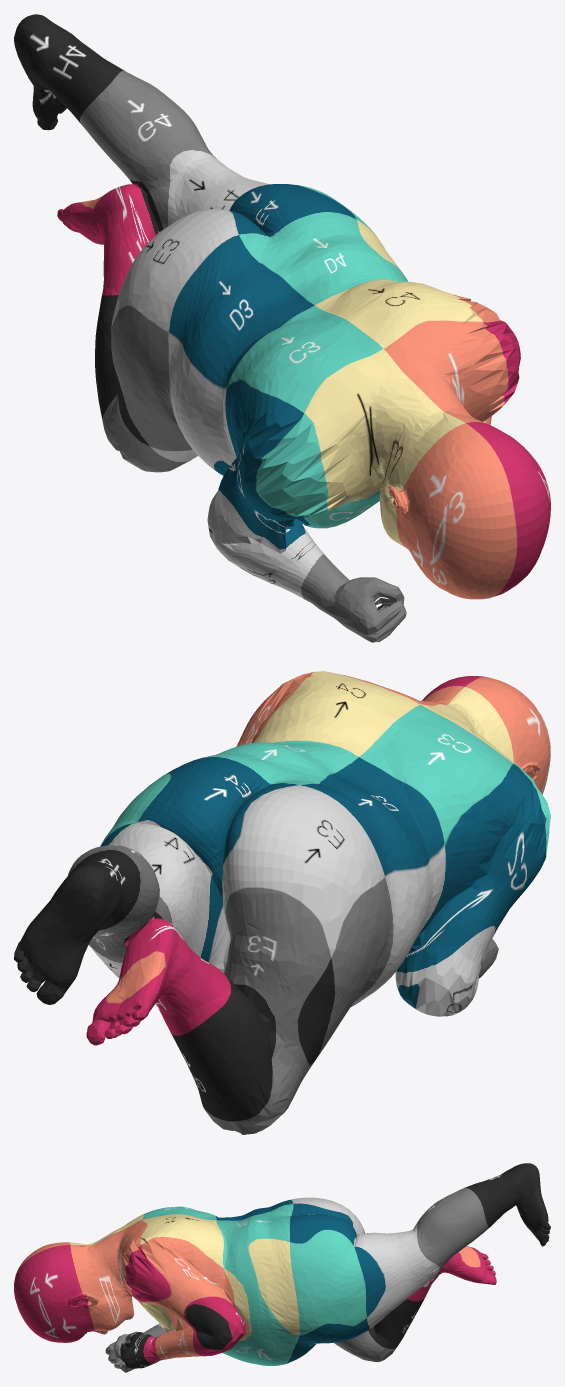
File: kid00-kid25.obj
3 renders of one model, top to bottom at view 1: azimuth 30°, elevation 25°; view 2: azimuth 150°, elevation 25°; view 3: azimuth 270°, elevation 25°, orthographic. The views are drawn at different scales.
Parts seen in each view (by area): view 1: kid00-kid25_export; view 2: kid00-kid25_export; view 3: kid00-kid25_export.
Boxes of the visible parts, bbox=[...] form: kid00-kid25_export: bbox=[14, 14, 550, 642]; kid00-kid25_export: bbox=[14, 671, 550, 1134]; kid00-kid25_export: bbox=[14, 1163, 550, 1372].
Bounding box in the file's own units: 0.3851 × 0.4469 × 1.04.
1 material, 1 textured.
